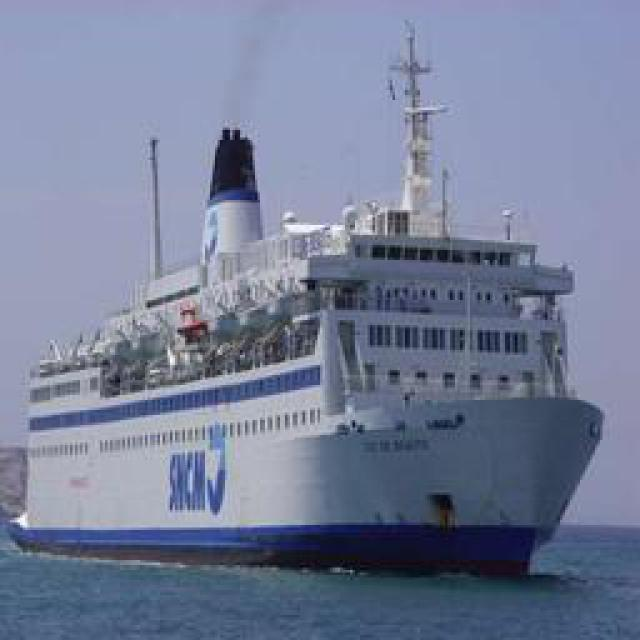Ship: (22, 34, 602, 559)
